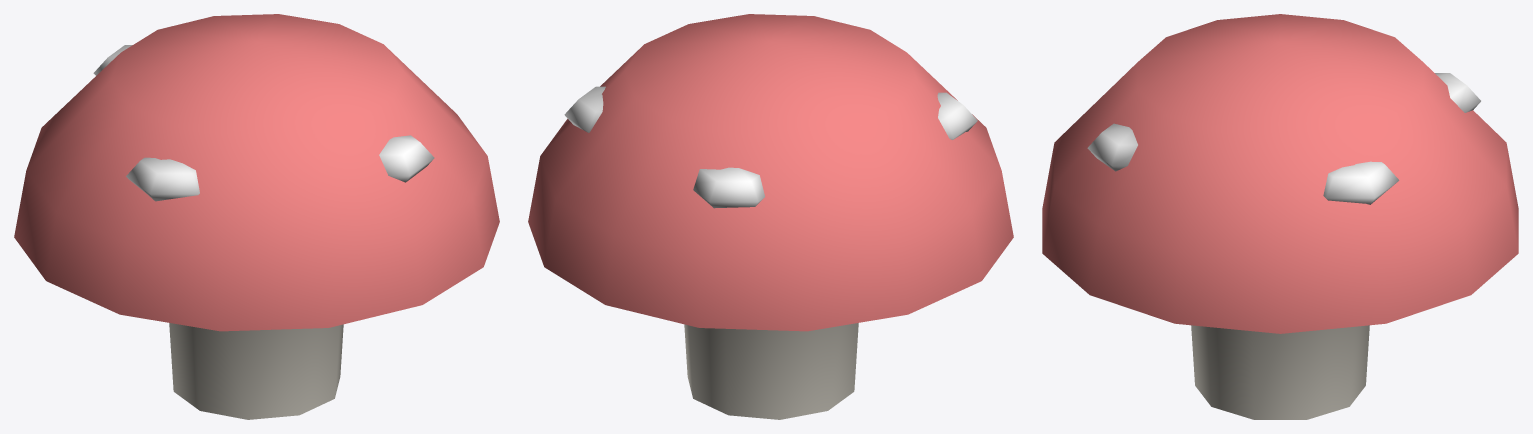
Rendered from Mushroom.fbx.
3 views of the same model, side by side, from view 1: azimuth 30°, elevation 25°; view 2: azimuth 150°, elevation 25°; view 3: azimuth 270°, elevation 25° (orthographic).
Parts seen in each view (by area): view 1: mushroom; view 2: mushroom; view 3: mushroom.
Part boxes in pixels (x1,y1,x2,y2): mushroom: [14, 14, 499, 419]; mushroom: [528, 14, 1013, 419]; mushroom: [1042, 14, 1518, 419].
Size of the model in its own units: 0.4 by 0.31 by 0.39.
